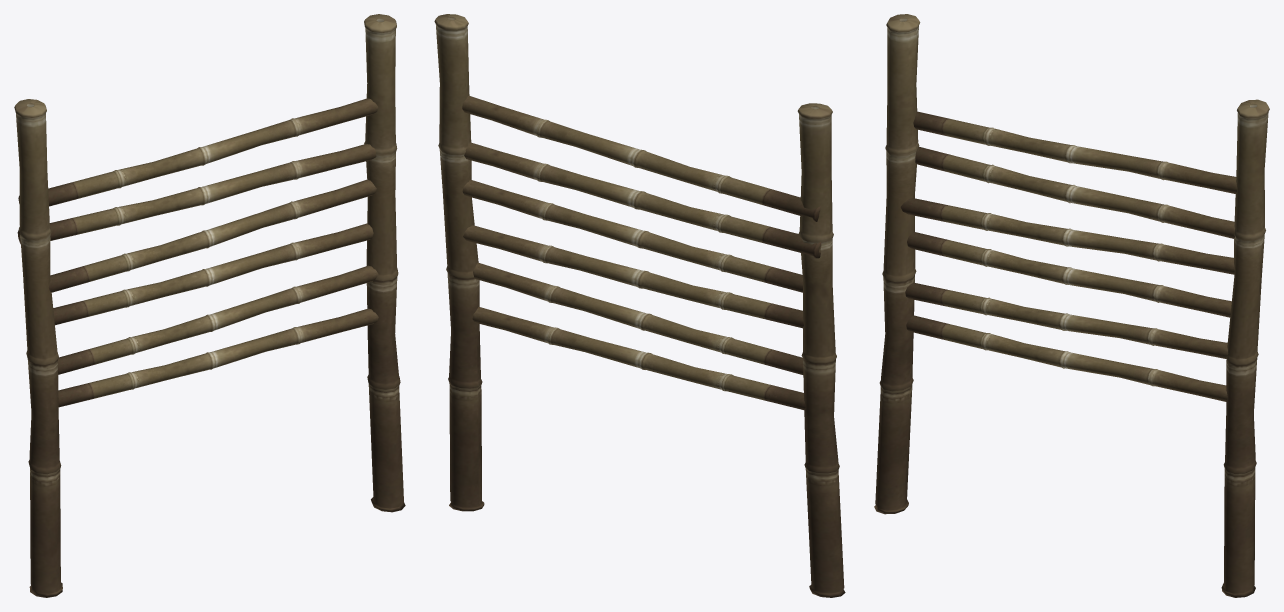
File: hangraotre_chuiqua.fbx
3 views of the same model, side by side, from view 1: azimuth 30°, elevation 25°; view 2: azimuth 150°, elevation 25°; view 3: azimuth 330°, elevation 25° (orthographic). The views are drawn at different scales.
Parts seen in each view (by area): view 1: khung.001; view 2: khung.001; view 3: khung.001.
Part boxes in pixels (<box>): khung.001: <box>14,14,405,597</box>; khung.001: <box>434,14,845,597</box>; khung.001: <box>874,14,1269,597</box>.
Bounding box in the file's own units: 77.48 × 93.17 × 10.76.
1 material, 1 textured.
